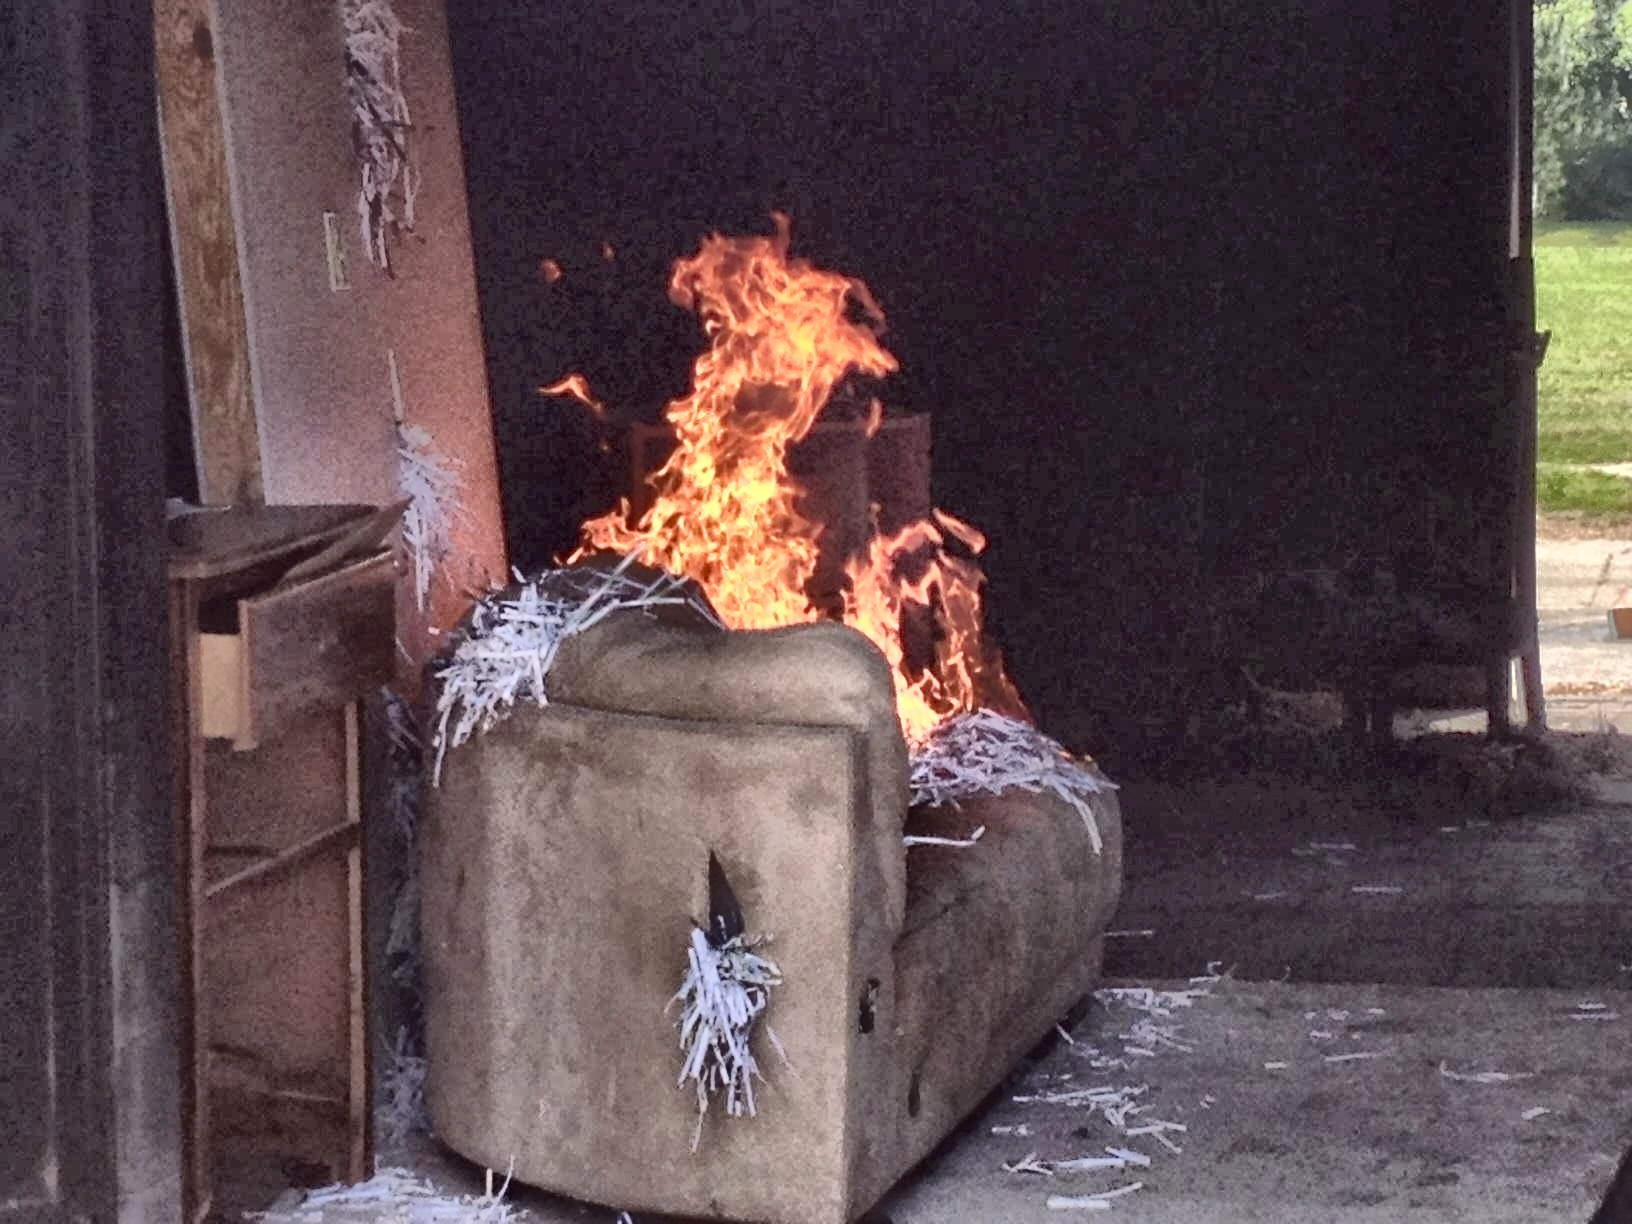fire: (580, 208, 983, 651)
